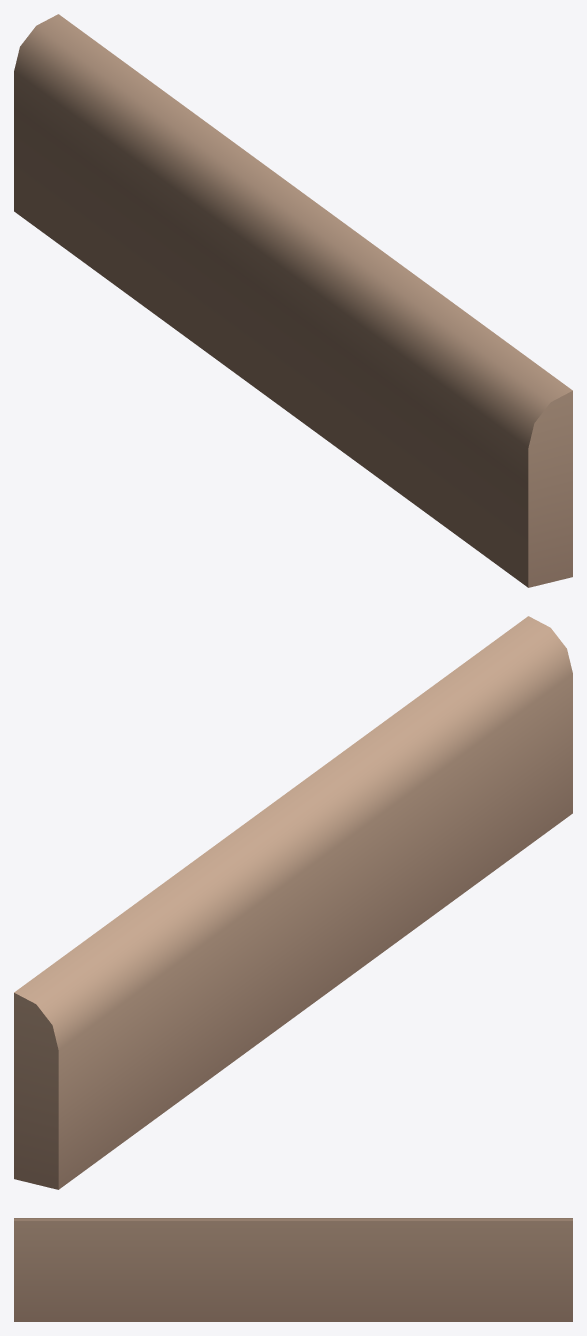
Rendered from baseboard-rounded (%wall).glb.
The picture shows the model from 3 angles, top to bottom: view 1: azimuth 30°, elevation 25°; view 2: azimuth 150°, elevation 25°; view 3: azimuth 270°, elevation 25°; orthographic projection. The views are drawn at different scales.
Parts seen in each view (by area): view 1: baseboard-rounded (%wall); view 2: baseboard-rounded (%wall); view 3: baseboard-rounded (%wall).
Boxes of the visible parts, left/top/right/bottom form: baseboard-rounded (%wall): left=14, top=14, right=572, bottom=587; baseboard-rounded (%wall): left=14, top=616, right=572, bottom=1189; baseboard-rounded (%wall): left=14, top=1218, right=572, bottom=1321.
Size of the model in its own units: 0.05 by 0.2 by 1.
